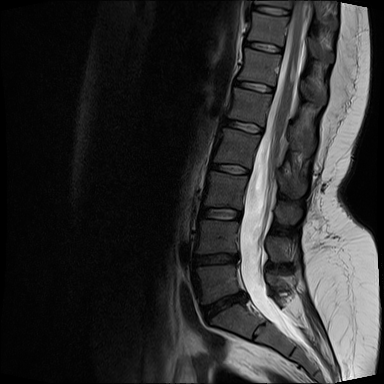Lumbar Disc Bulge (LDB): (198, 288, 255, 327), (187, 249, 244, 269)
Normal IVD: (195, 203, 246, 224), (221, 116, 268, 137), (208, 160, 253, 179), (232, 77, 278, 95), (243, 39, 286, 57), (255, 6, 294, 19)
Spinal Stenosis (SS): (228, 248, 244, 267), (237, 288, 252, 308)
